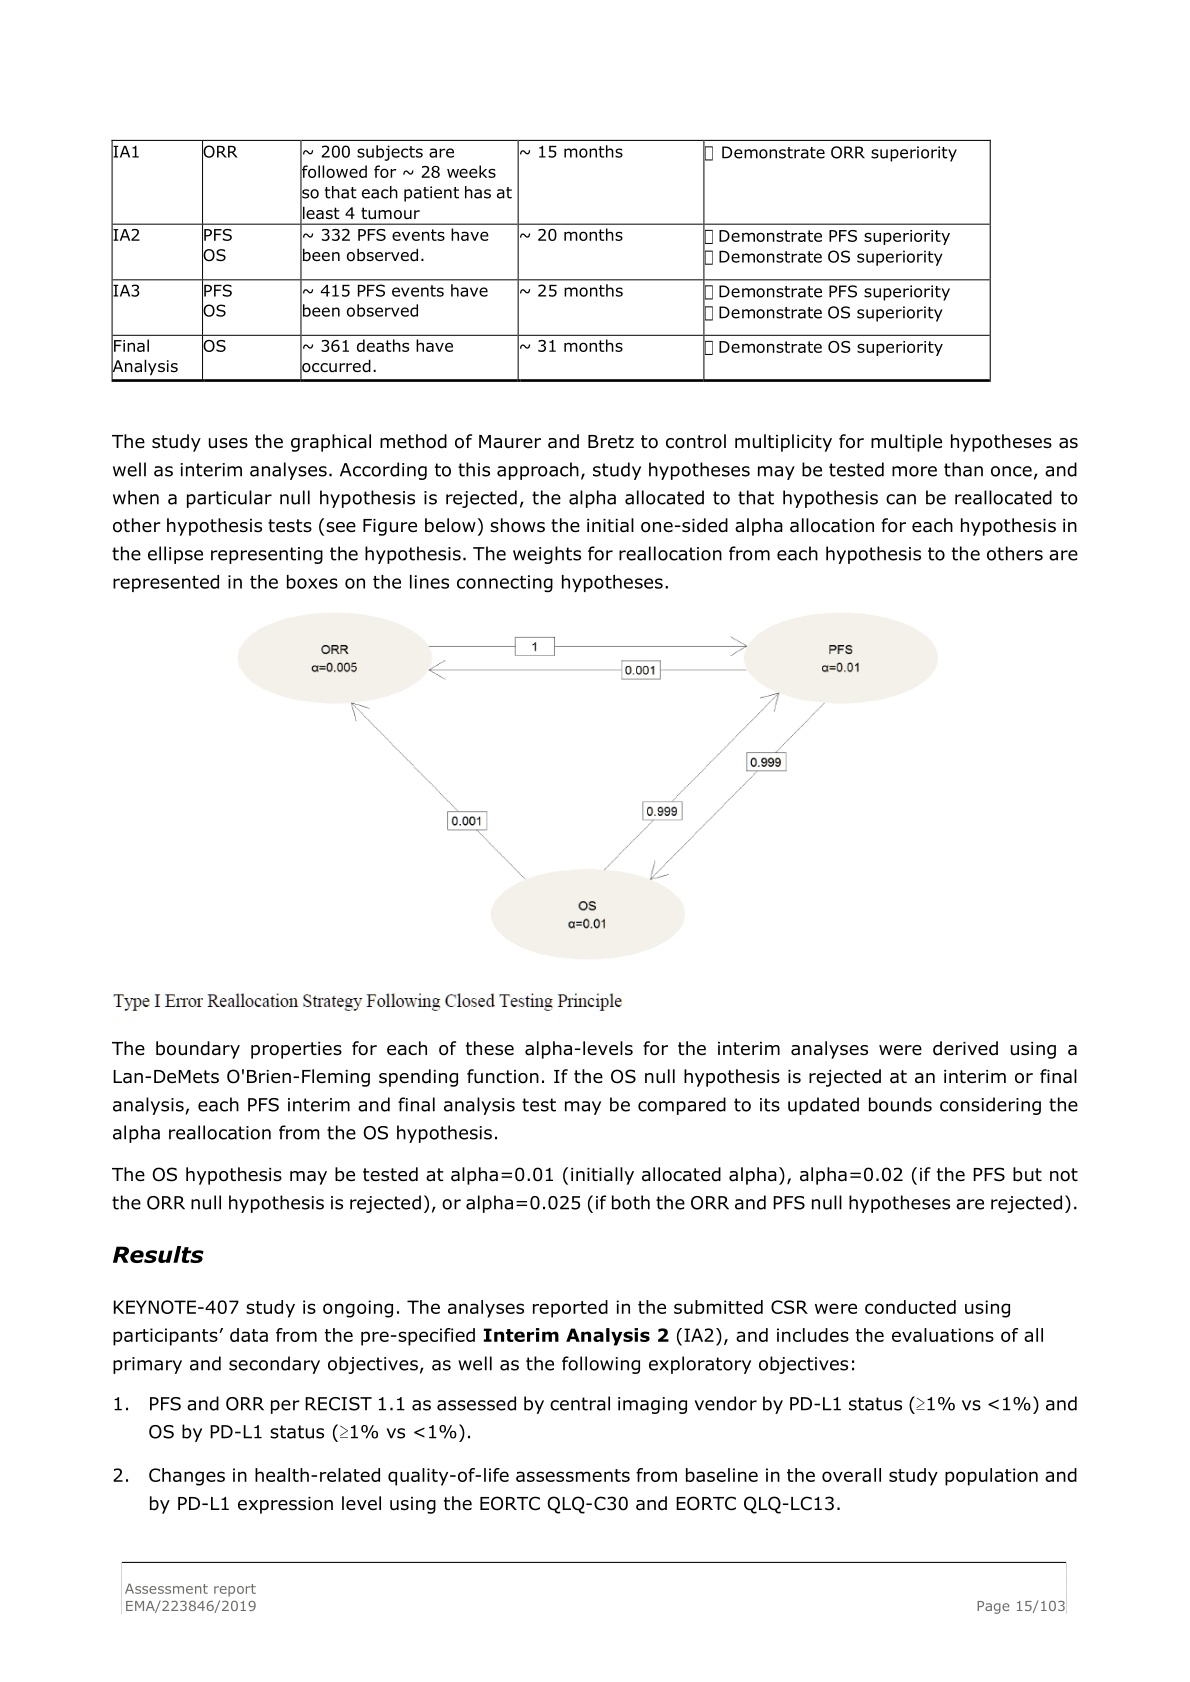full_lined: (109, 139, 992, 383)
